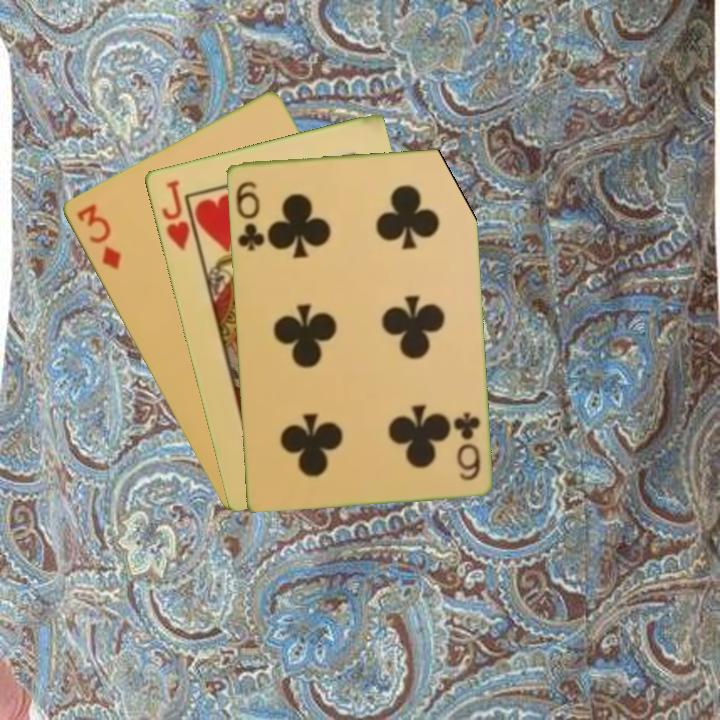3d: (72, 199, 124, 273)
6c: (232, 177, 267, 254), (450, 408, 483, 483)
Jh: (157, 176, 201, 256)
